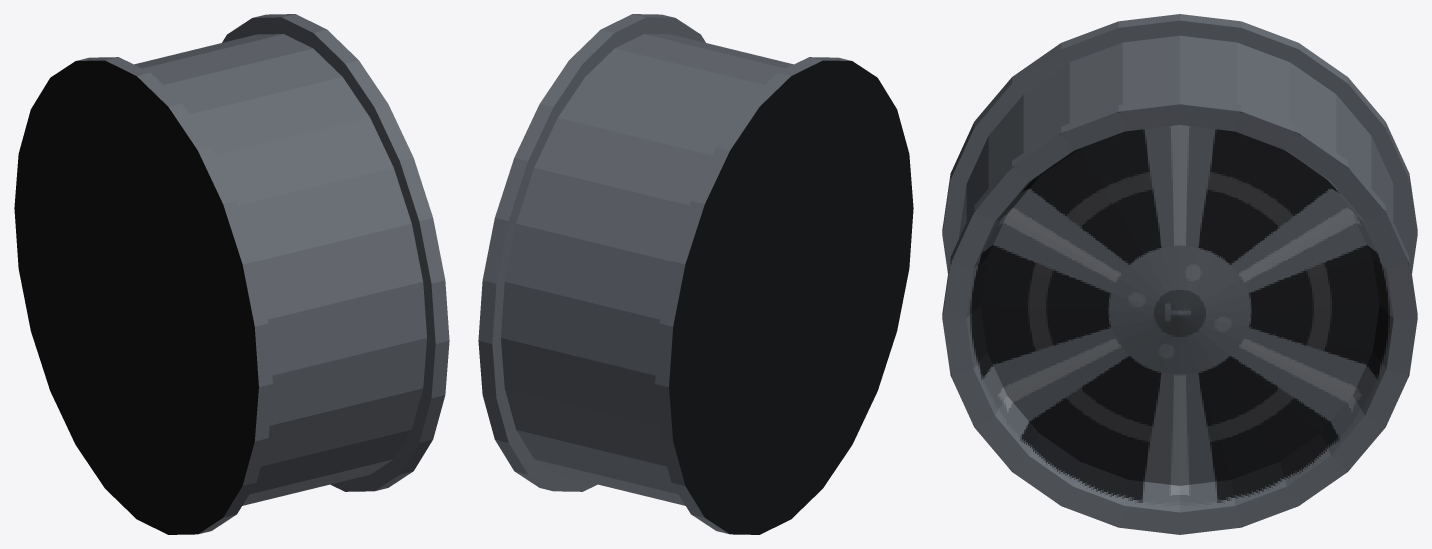
The model's file is tauari_magnesio_15.glb.
3 views of the same model, side by side, from view 1: azimuth 30°, elevation 25°; view 2: azimuth 150°, elevation 25°; view 3: azimuth 270°, elevation 25° (orthographic). The views are drawn at different scales.
Parts seen in each view (by area): view 1: tauari_magnesio_15; view 2: tauari_magnesio_15; view 3: tauari_magnesio_15.
Part boxes in pixels (box(x1,y1,x2,y2)): tauari_magnesio_15: box(14, 14, 449, 534); tauari_magnesio_15: box(478, 14, 913, 534); tauari_magnesio_15: box(942, 14, 1417, 534).
Bounding box in the file's own units: 0.192 × 0.4267 × 0.4267.
1 material, 1 textured.
